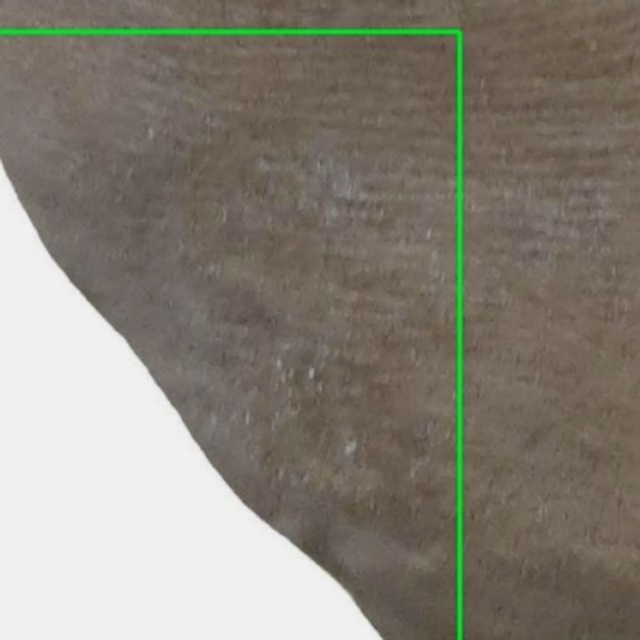Tinea Corporis: (0, 31, 459, 639)
